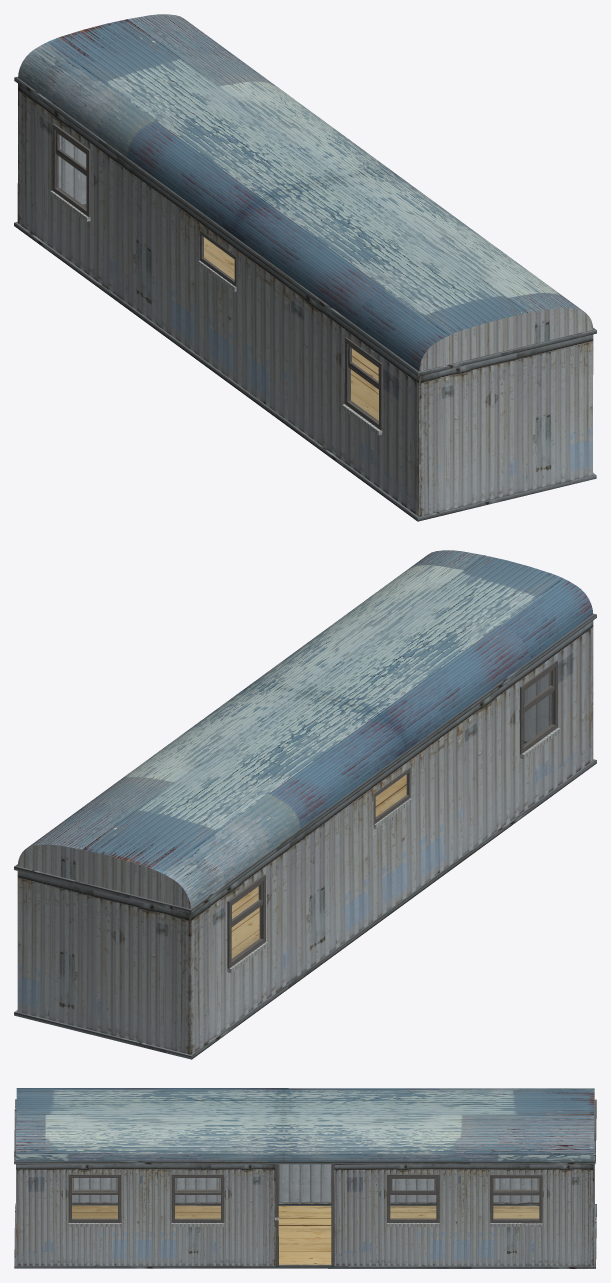
File: CargoHouse06.FBX
3 renders of one model, top to bottom at view 1: azimuth 30°, elevation 25°; view 2: azimuth 150°, elevation 25°; view 3: azimuth 270°, elevation 25°, orthographic. The views are drawn at different scales.
Parts seen in each view (by area): view 1: CargoHouse06; view 2: CargoHouse06; view 3: CargoHouse06.
Boxes of the visible parts, x1,y1,x2,y2 form: CargoHouse06: [14, 14, 596, 521]; CargoHouse06: [14, 550, 596, 1059]; CargoHouse06: [14, 1088, 596, 1268].
Bounding box in the file's own units: 128 × 119 × 482.
